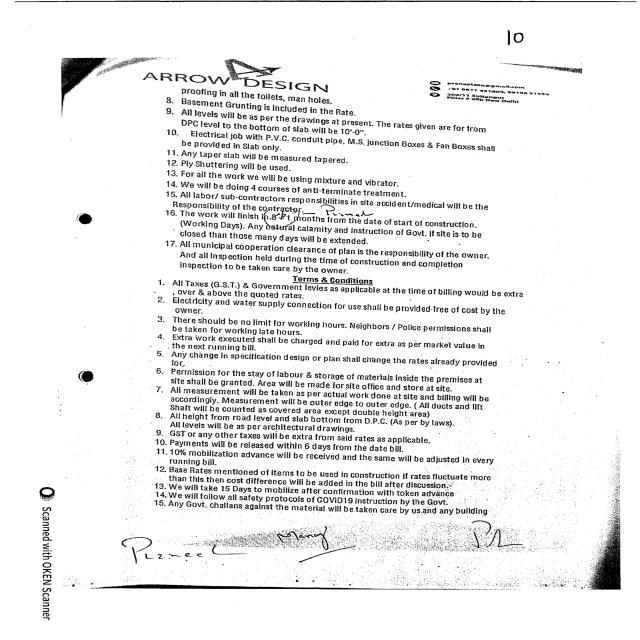page-number: (391, 4, 635, 61)
